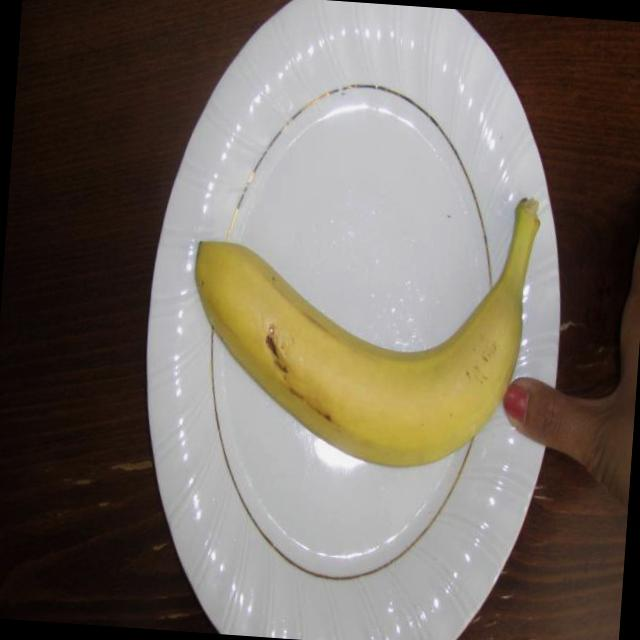Banana: (175, 164, 548, 483)
Finger: (496, 364, 568, 462)
